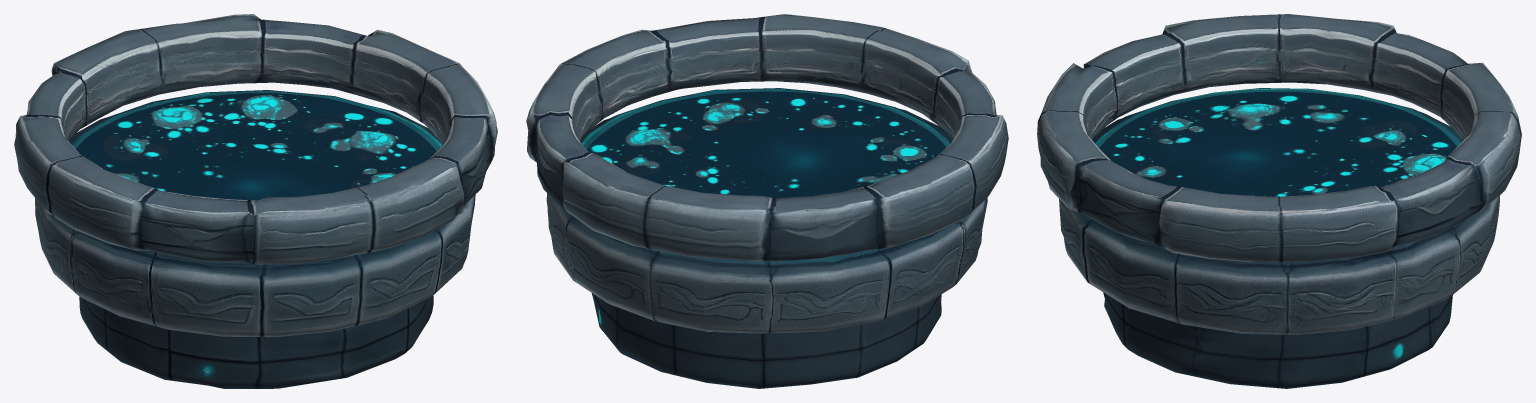
Rendered from z3_basin.glb.
3 views of the same model, side by side, from view 1: azimuth 30°, elevation 25°; view 2: azimuth 150°, elevation 25°; view 3: azimuth 270°, elevation 25° (orthographic).
Bounding box in the file's own units: 1.89 × 0.8883 × 1.89.
Materials: 1 (1 with a texture image).
